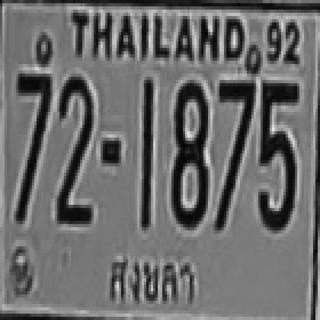N01: (139, 77, 153, 211)
N02: (55, 75, 92, 216), (56, 75, 92, 206)
N05: (256, 80, 297, 227), (258, 80, 297, 166)
N07: (215, 77, 254, 227), (14, 70, 50, 221), (16, 70, 50, 218), (216, 77, 252, 214), (16, 72, 50, 194), (16, 70, 50, 166)
N08: (169, 80, 206, 224)
P64: (101, 248, 203, 309)
